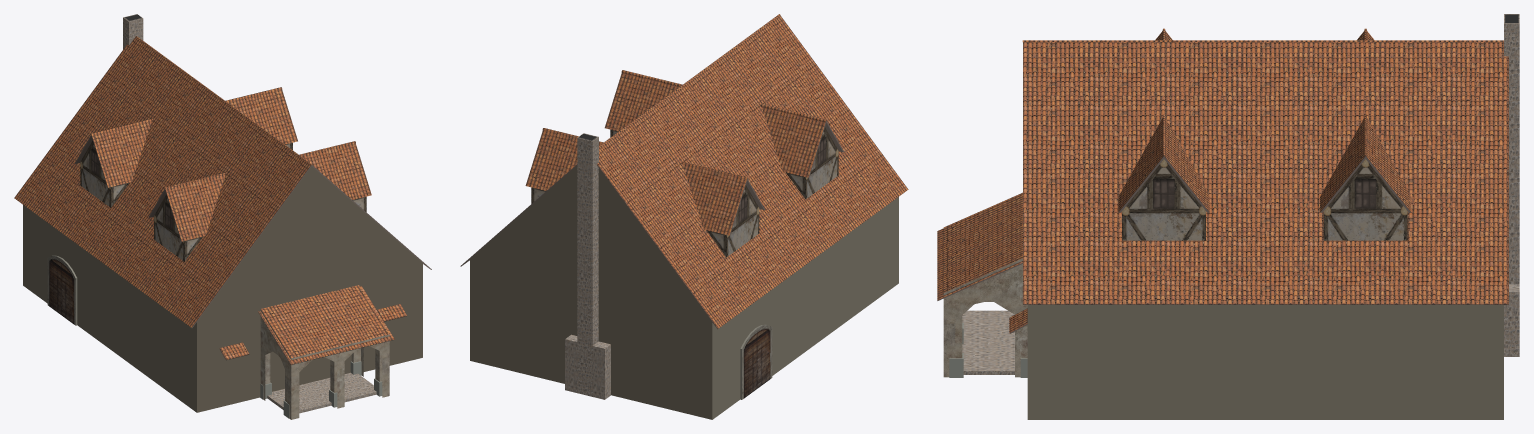
File: ShiganHouse2FBX.fbx
3 renders of one model, left to right at view 1: azimuth 30°, elevation 25°; view 2: azimuth 150°, elevation 25°; view 3: azimuth 270°, elevation 25°, orthographic. The views are drawn at different scales.
Visible parts, largest first — view 1: ShiganshinaHouse2_LOD0_1, ShiganshinaHouse2_LOD1_1; view 2: ShiganshinaHouse2_LOD0_1, ShiganshinaHouse2_LOD1_1; view 3: ShiganshinaHouse2_LOD0_1, ShiganshinaHouse2_LOD1_1.
Boxes of the visible parts, box(x1,y1,x2,y2) form: ShiganshinaHouse2_LOD0_1: box(14, 14, 431, 418); ShiganshinaHouse2_LOD1_1: box(123, 18, 420, 419); ShiganshinaHouse2_LOD0_1: box(460, 14, 908, 419); ShiganshinaHouse2_LOD1_1: box(471, 137, 707, 396); ShiganshinaHouse2_LOD0_1: box(937, 14, 1519, 419); ShiganshinaHouse2_LOD1_1: box(943, 23, 1519, 377).
Size of what is drawn, in the model's own units: 15.94 by 15.11 by 24.46.
